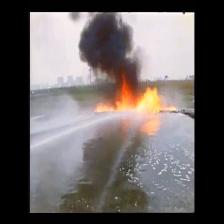fire: (100, 85, 161, 111)
smoke: (82, 28, 132, 68)
